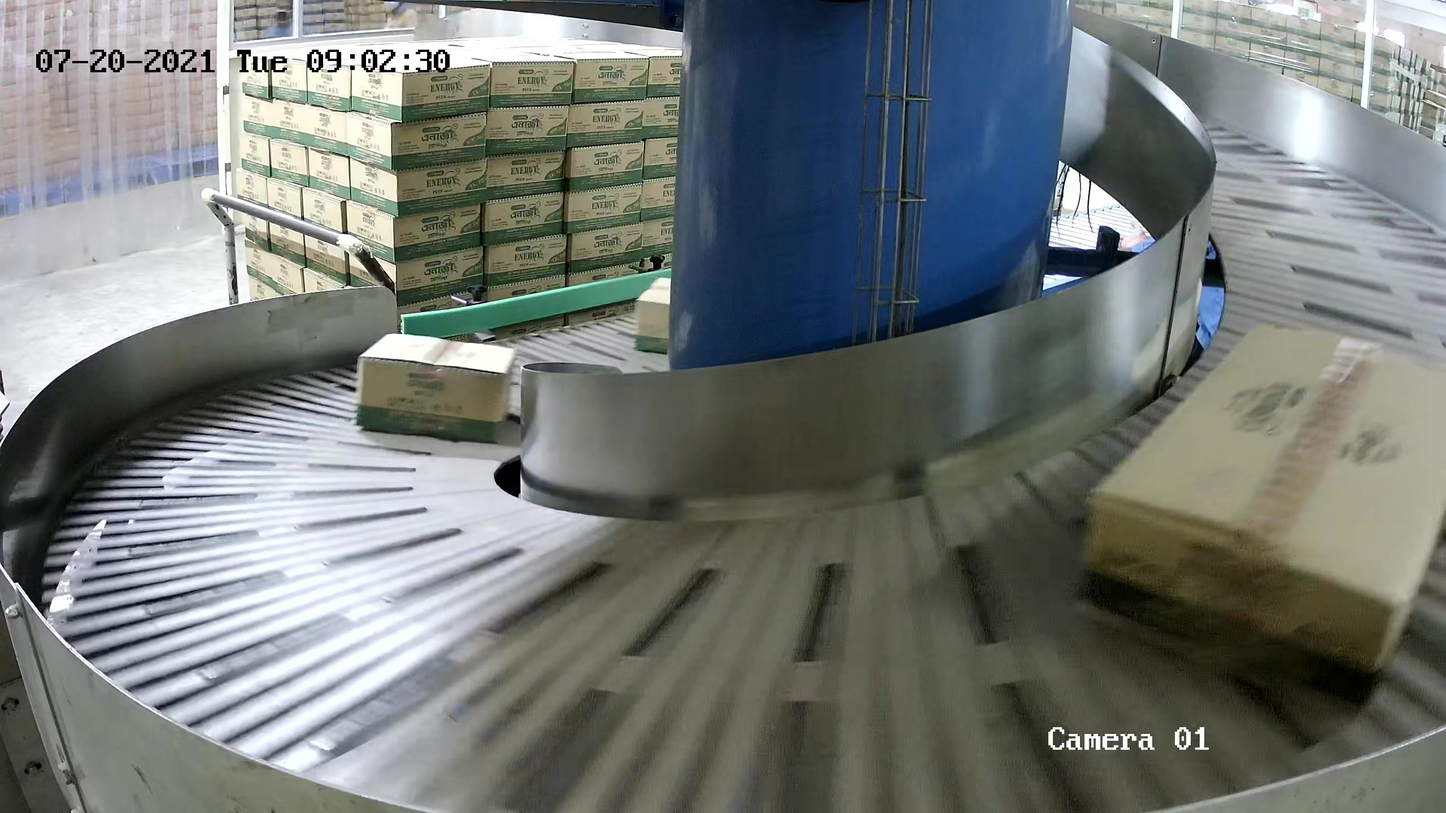Box: (1072, 318, 1446, 724), (355, 331, 517, 446), (632, 275, 673, 355)
